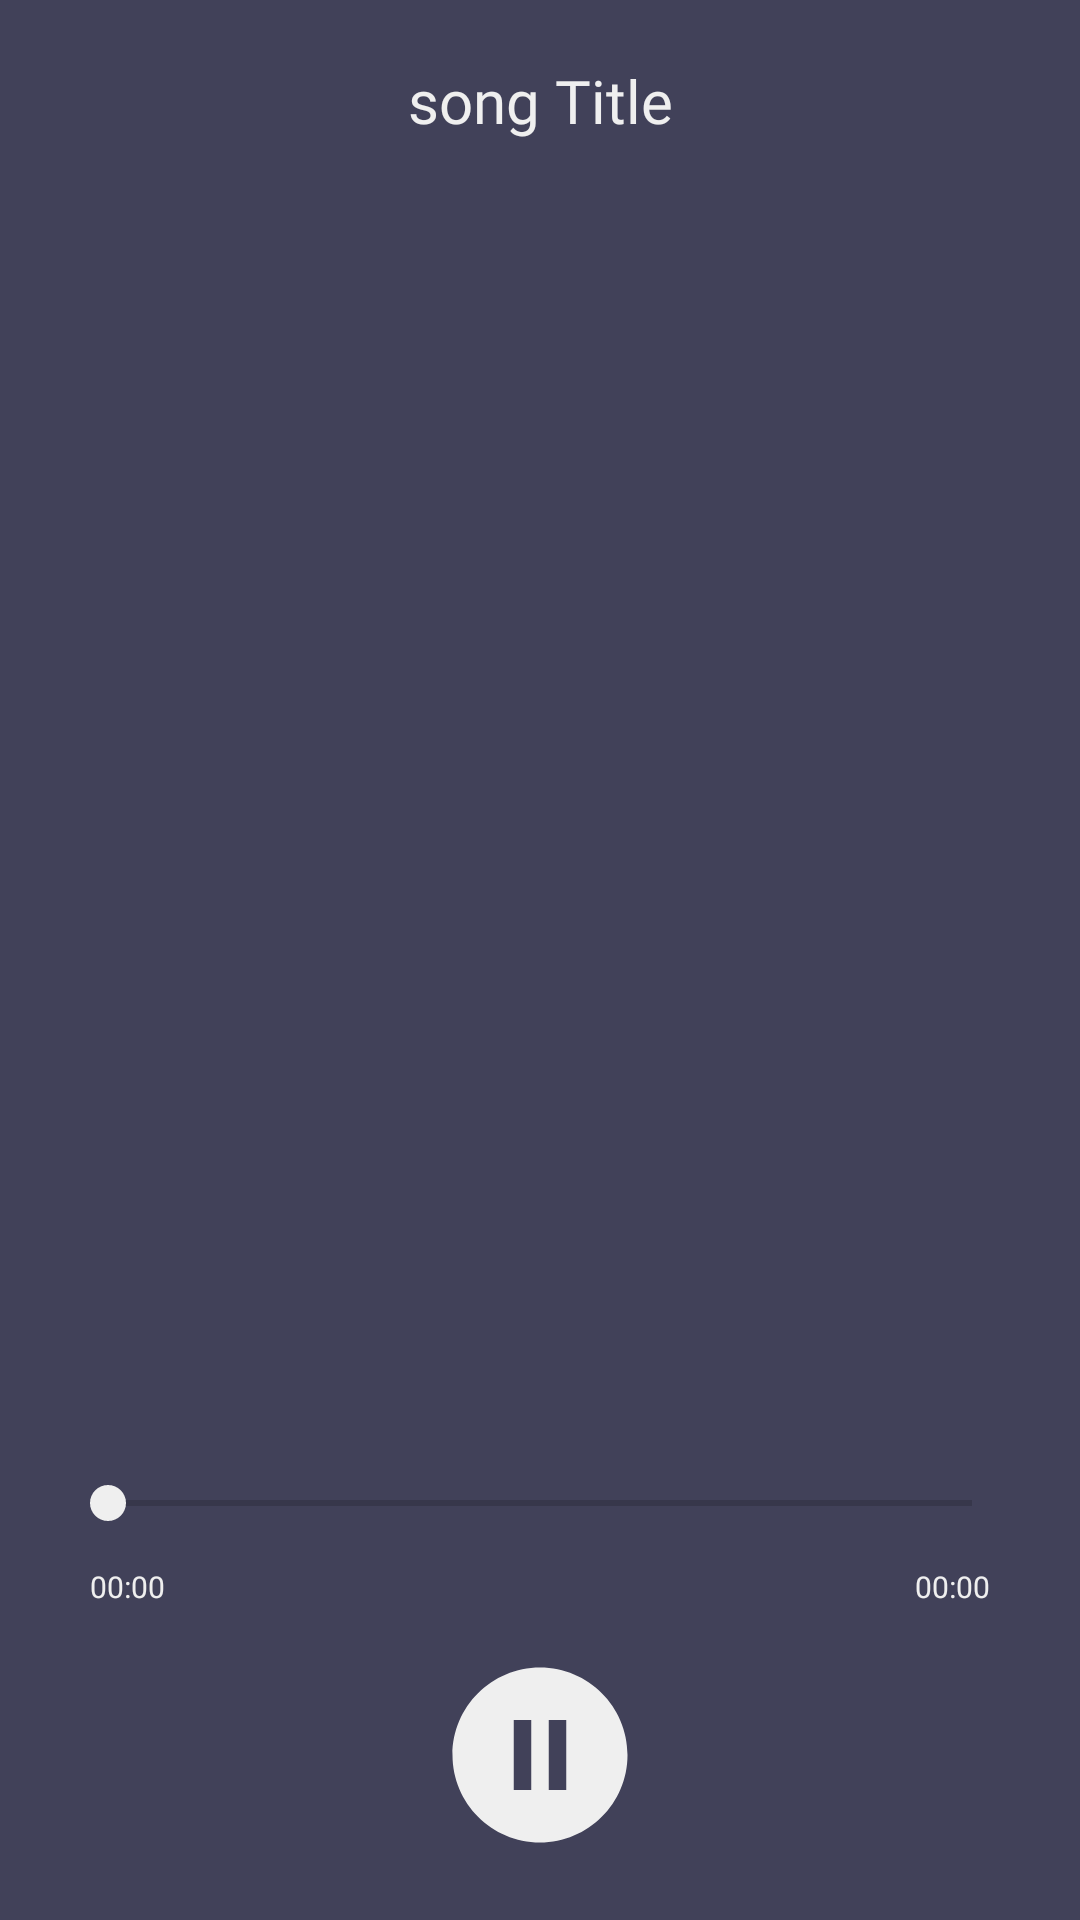

Icon bounding boxes for this 1080 × 1920 phone screenshot, format (x1, y1, x2, y2):
pause circle: (452, 1667, 628, 1843)
